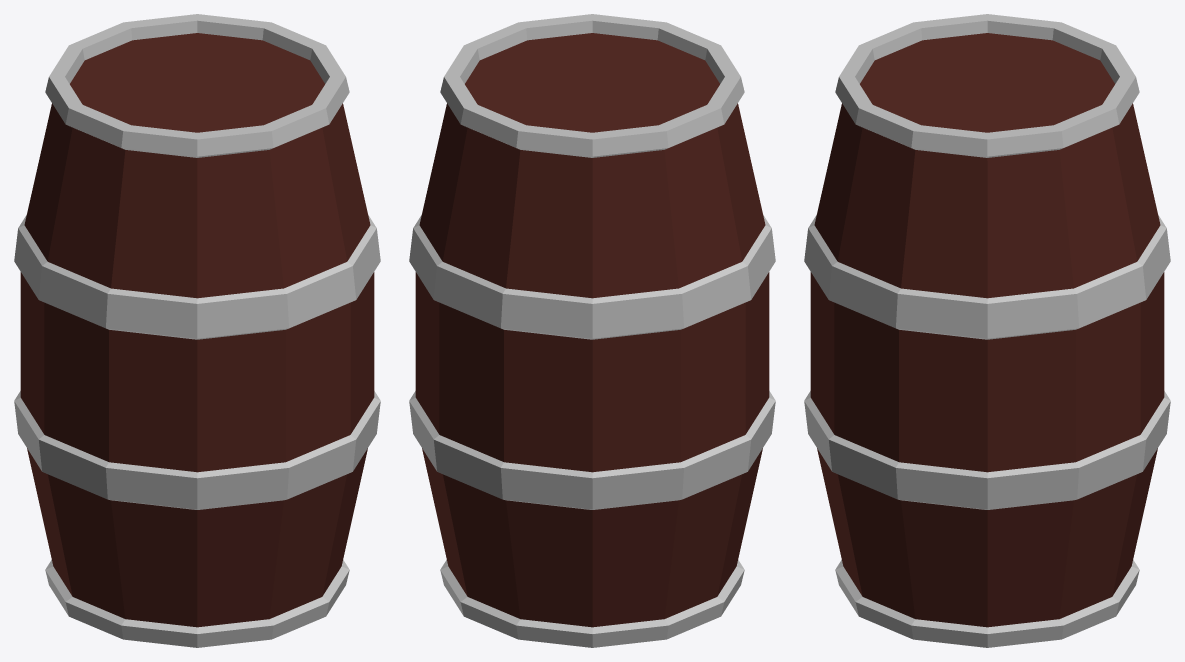
File: drum_1.FBX
3 renders of one model, left to right at view 1: azimuth 30°, elevation 25°; view 2: azimuth 150°, elevation 25°; view 3: azimuth 270°, elevation 25°, orthographic.
Parts seen in each view (by area): view 1: drum_1; view 2: drum_1; view 3: drum_1.
Boxes of the visible parts, bbox=[...] form: drum_1: bbox=[14, 14, 380, 647]; drum_1: bbox=[409, 14, 775, 647]; drum_1: bbox=[804, 14, 1170, 647].
Size of the model in its own units: 0.4867 by 0.7448 by 0.4867.
Materials: 1 (1 with a texture image).
